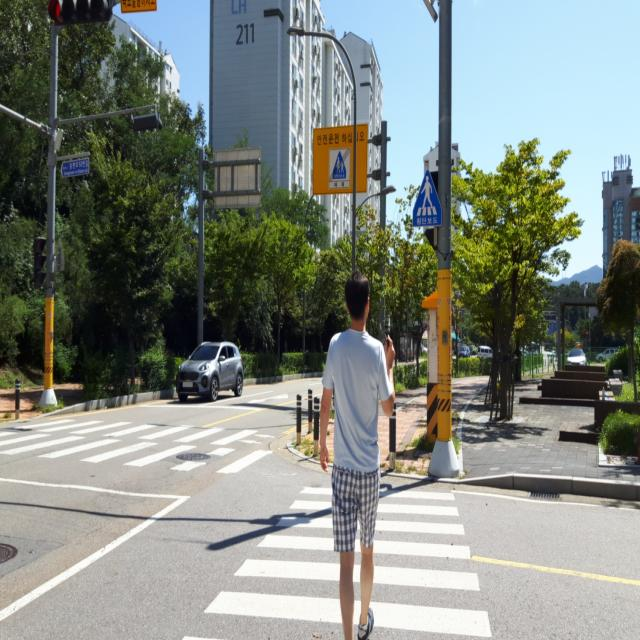횡단보도: (180, 483, 493, 640), (0, 406, 279, 479)
